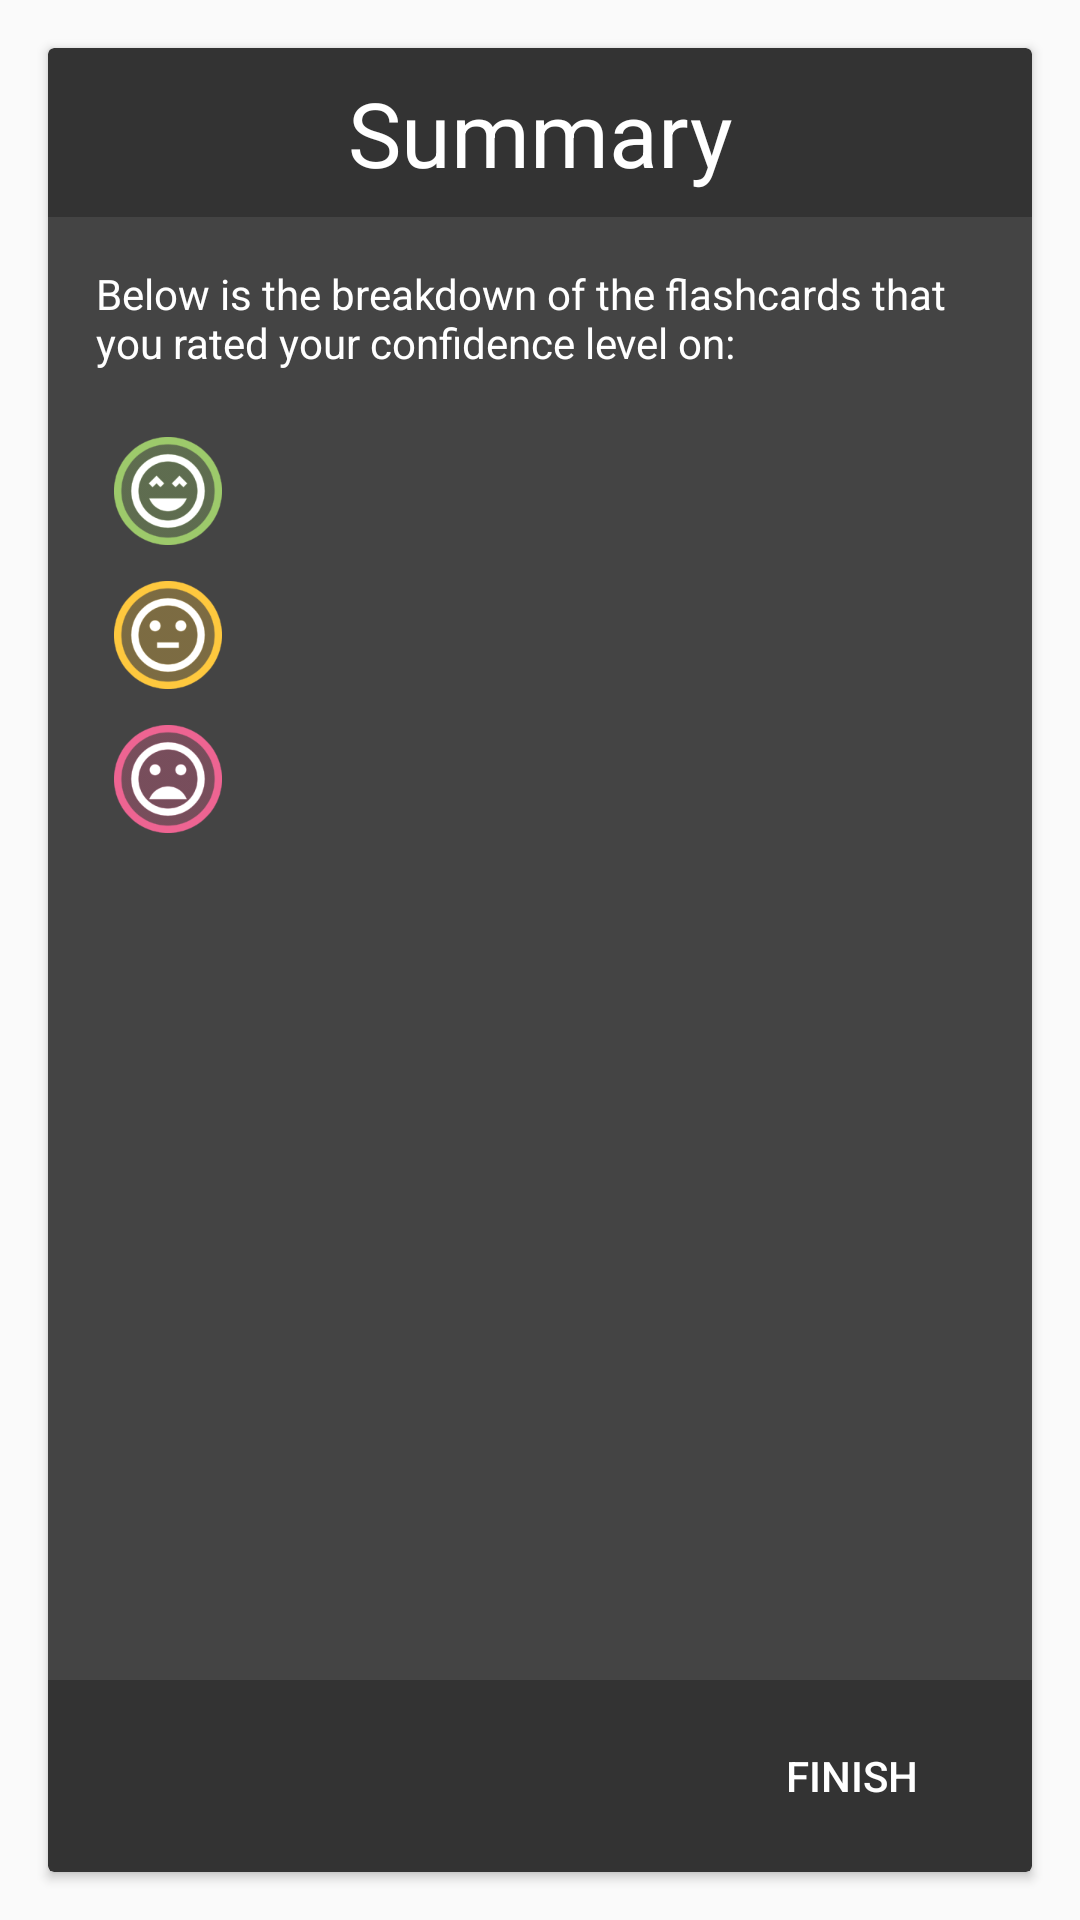

Screen size 1080×1920. Icon name, then its center in pixels as [x,y]:
negative rating: [168,779]
neutral rating: [168,635]
positive rating: [168,491]
